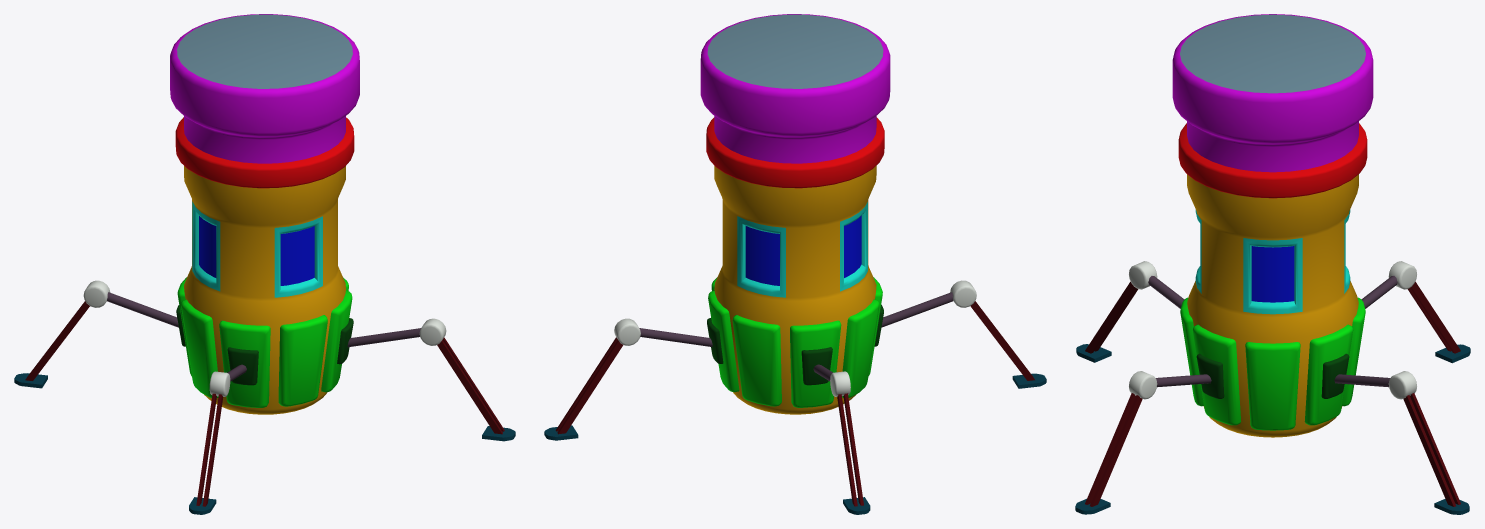
The model's file is sm_pod.fbx.
The picture shows the model from 3 angles, left to right: view 1: azimuth 30°, elevation 25°; view 2: azimuth 150°, elevation 25°; view 3: azimuth 270°, elevation 25°; orthographic projection. The views are drawn at different scales.
Visible parts, largest first — view 1: Body; view 2: Body; view 3: Body.
Part boxes in pixels (bbox=[...]): Body: bbox=[14, 14, 515, 514]; Body: bbox=[544, 14, 1046, 514]; Body: bbox=[1075, 14, 1470, 514].
Size of the model in its own units: 3682 by 3880 by 3682.
